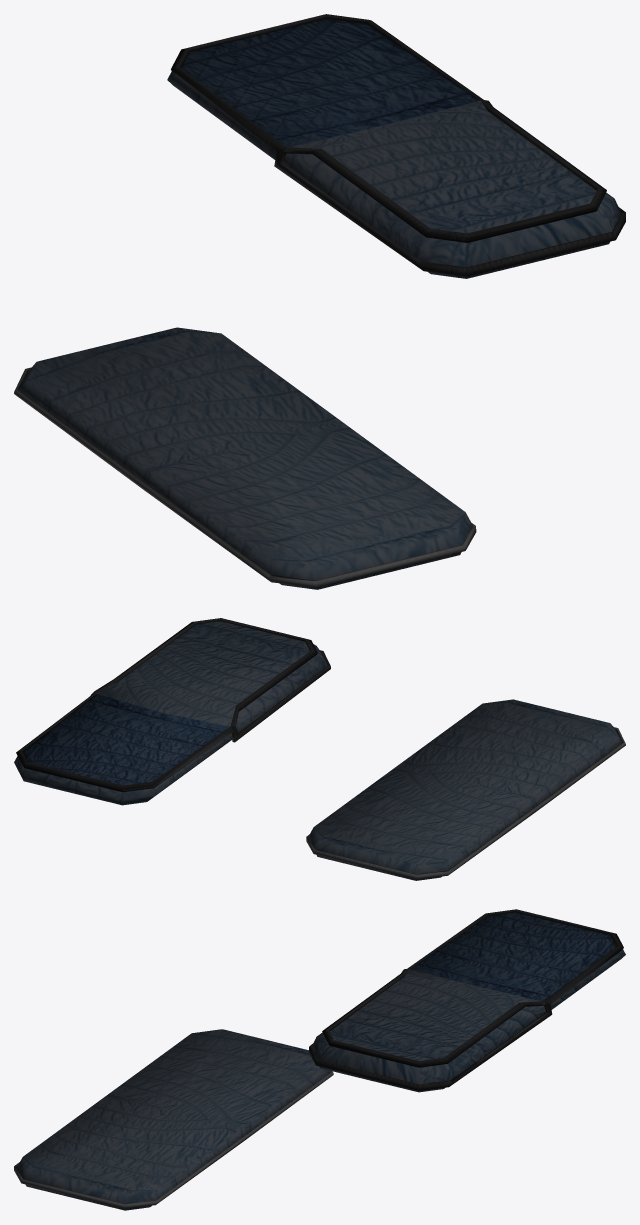
File: Sleepingbags_Black.obj
The picture shows the model from 3 angles, top to bottom: view 1: azimuth 30°, elevation 25°; view 2: azimuth 150°, elevation 25°; view 3: azimuth 330°, elevation 25°; orthographic projection. The views are drawn at different scales.
Parts seen in each view (by area): view 1: Cube.005_Material.002, Cube.004_Material.002, Cube.026_Material.006, Cube.027_Material.006; view 2: Cube.005_Material.002, Cube.004_Material.002, Cube.026_Material.006, Cube.027_Material.006; view 3: Cube.005_Material.002, Cube.004_Material.002, Cube.026_Material.006, Cube.027_Material.006.
Part boxes in pixels (x1,y1,x2,y2): Cube.005_Material.002: (19, 327, 473, 589); Cube.004_Material.002: (167, 18, 621, 278); Cube.026_Material.006: (171, 14, 625, 276); Cube.027_Material.006: (14, 367, 476, 587); Cube.005_Material.002: (308, 699, 622, 880); Cube.004_Material.002: (14, 621, 327, 805); Cube.026_Material.006: (16, 618, 330, 792); Cube.027_Material.006: (306, 727, 625, 879); Cube.005_Material.002: (17, 1029, 331, 1210); Cube.004_Material.002: (312, 912, 625, 1092); Cube.026_Material.006: (309, 909, 623, 1090); Cube.027_Material.006: (14, 1071, 333, 1208).
Size of the model in its own units: 2.05 by 0.6913 by 3.05.
